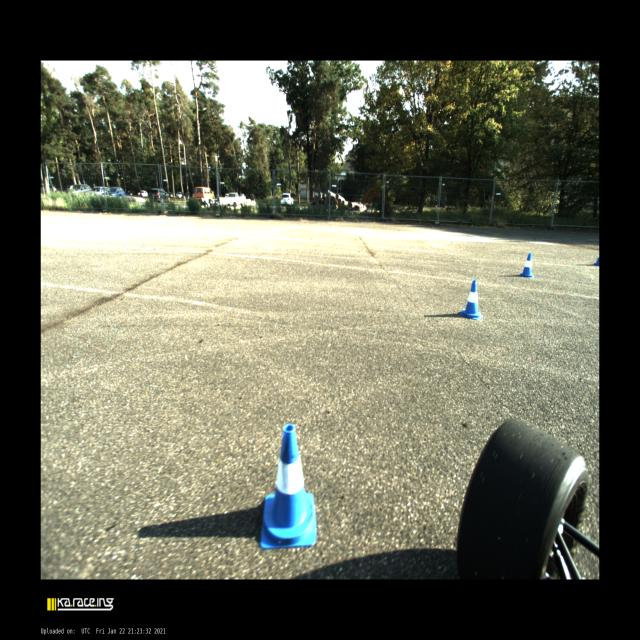blue_cone: (260, 424, 316, 547), (460, 280, 482, 320), (520, 252, 535, 278)
